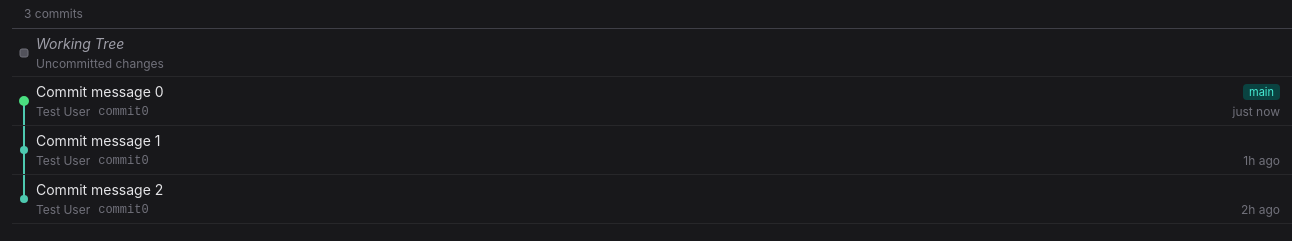
CommitList › shows selection count and clear button
Click the text "Commit message 0".
click(100, 92)  # box [36,83,164,100]
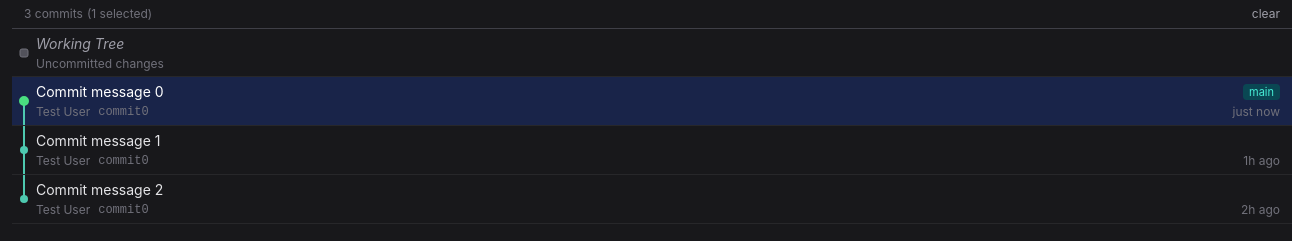
Expected: the text "(1 selected)" is shown, [87,6,152,22]
Expected: the button "clear" is shown, [1252,6,1280,22]
